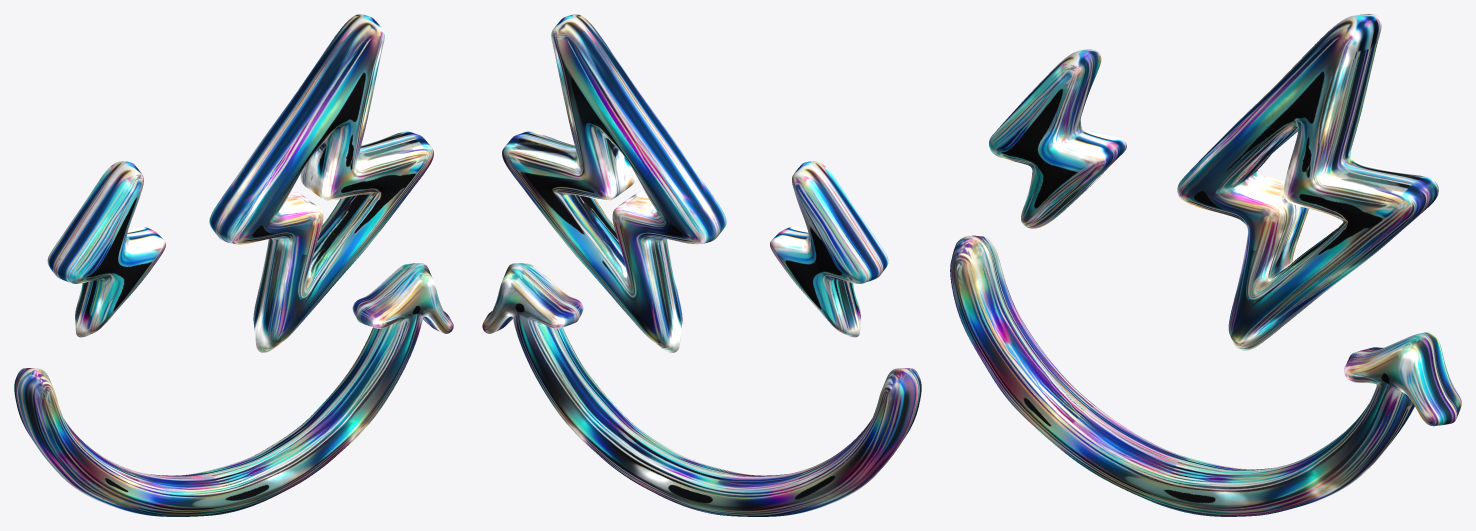
Rendered from iridescent-arc.glb.
3 views of the same model, side by side, from view 1: azimuth 30°, elevation 25°; view 2: azimuth 150°, elevation 25°; view 3: azimuth 330°, elevation 25° (orthographic). The views are drawn at different scales.
Bounding box in the file's own units: 1.87 × 1.9 × 0.235.
1 material, 1 textured.
